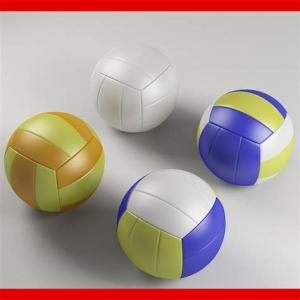Volley: (117, 169, 227, 280), (4, 111, 106, 213), (197, 88, 294, 186), (90, 40, 177, 134)
